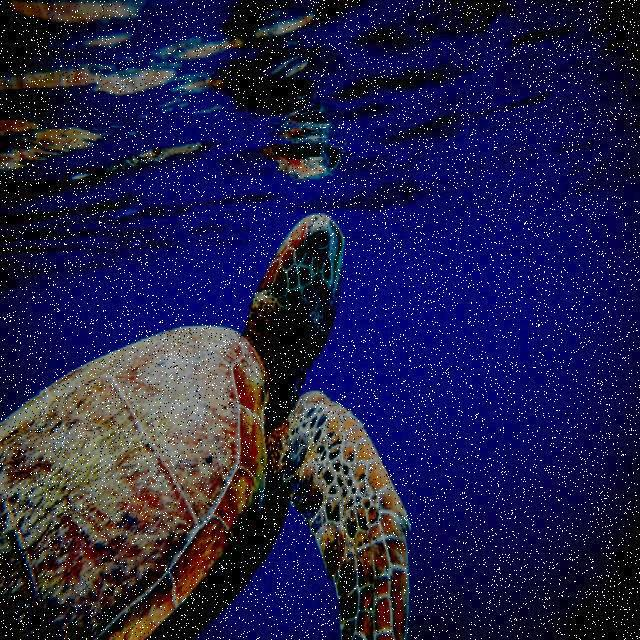tortoise: (0, 204, 428, 639)
